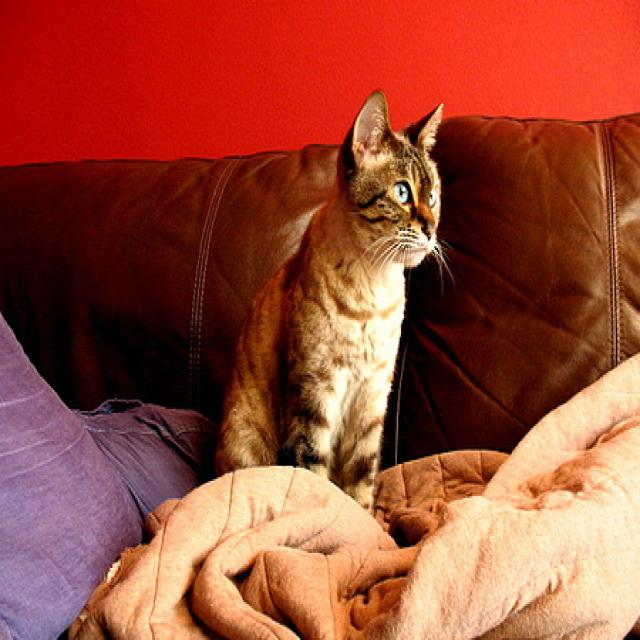Bengal: (204, 75, 454, 557)
